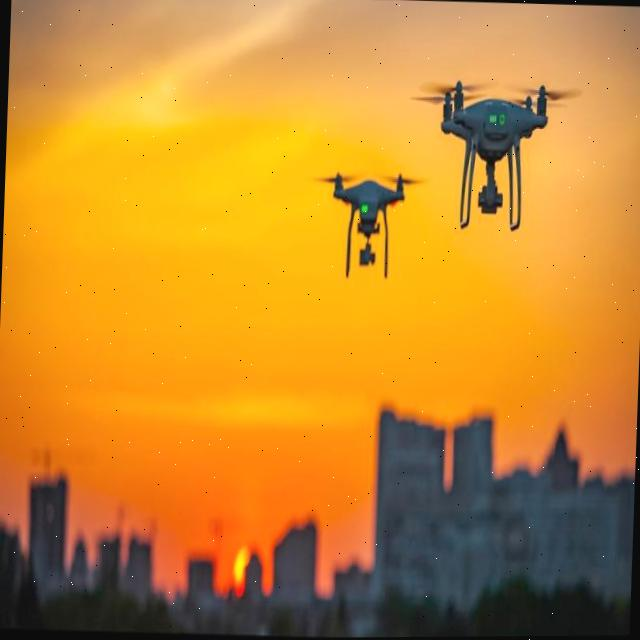drone: (417, 75, 562, 235), (303, 142, 418, 289)
